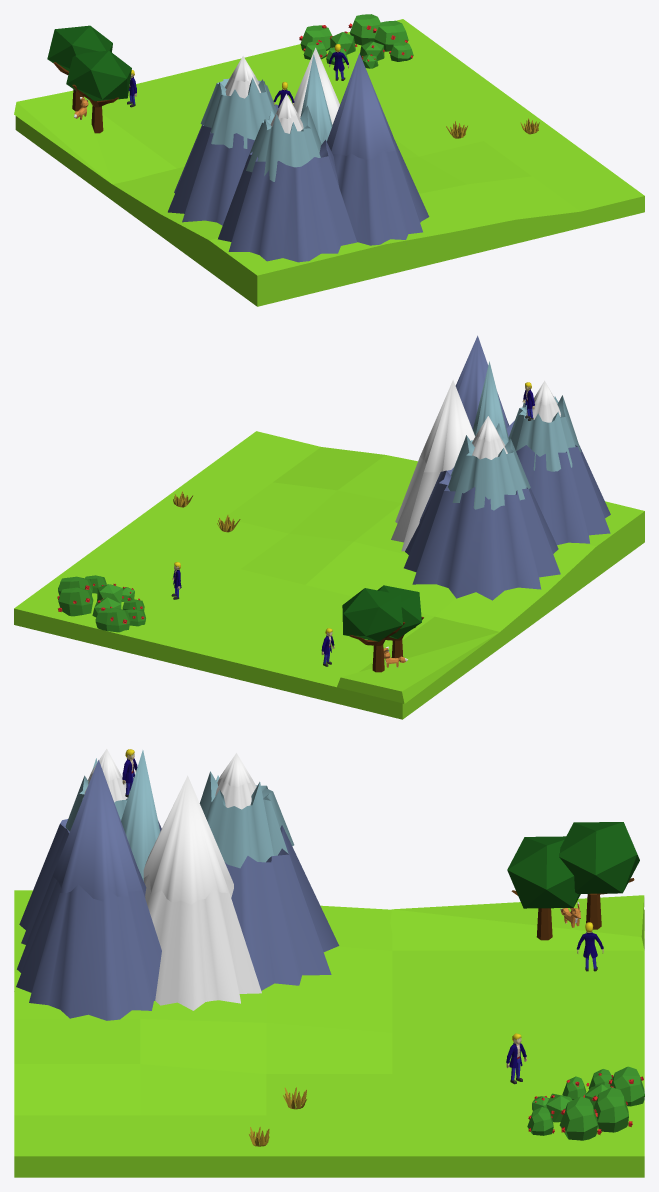
File: modelo0.glb
The picture shows the model from 3 angles, top to bottom: view 1: azimuth 30°, elevation 25°; view 2: azimuth 150°, elevation 25°; view 3: azimuth 270°, elevation 25°; orthographic projection. The views are drawn at different scales.
Visible parts, largest first — view 1: Cube_0, pCylinder6, polySurface1, pCylinder7, Icosphere_5.001, Icosphere_5, polySurface3, polySurface2, Cube.035_48.002, Cube.035_48.004, Cube.035_48.003, Cylinder_4.001; view 2: Cube_0, pCylinder7, pCylinder6, polySurface2, Icosphere_5, polySurface1, polySurface3, Icosphere_5.001, Cube.035_48.002, Cube.035_48.003; view 3: Cube_0, polySurface1, pCylinder7, polySurface2, Icosphere_5, Icosphere_5.001, pCylinder6, polySurface3, Cube.035_48.004, Cube.035_48.002, Cube.035_48.003.
Boxes of the visible parts, x1,y1,x2,y2 form: Cube_0: (14, 19, 644, 306); pCylinder6: (218, 94, 357, 262); polySurface1: (326, 53, 429, 245); pCylinder7: (168, 56, 278, 225); Icosphere_5.001: (66, 50, 131, 101); Icosphere_5: (47, 25, 112, 71); polySurface3: (300, 54, 332, 144); polySurface2: (292, 47, 339, 124); Cube.035_48.002: (350, 14, 380, 45); Cube.035_48.004: (374, 20, 408, 51); Cube.035_48.003: (300, 25, 331, 50); Cylinder_4.001: (72, 84, 118, 133); Cube_0: (14, 431, 644, 719); pCylinder7: (404, 416, 560, 600); pCylinder6: (506, 380, 610, 544); polySurface2: (391, 380, 475, 551); Icosphere_5: (342, 588, 402, 641); polySurface1: (455, 335, 509, 429); polySurface3: (473, 361, 509, 441); Icosphere_5.001: (377, 585, 421, 638); Cube.035_48.002: (58, 587, 93, 616); Cube.035_48.003: (95, 607, 130, 632); Cube_0: (14, 890, 644, 1177); polySurface1: (16, 760, 161, 1020); pCylinder7: (199, 753, 339, 990); polySurface2: (143, 775, 261, 1010); Icosphere_5: (559, 822, 639, 893); Icosphere_5.001: (507, 836, 580, 908); pCylinder6: (19, 749, 161, 944); polySurface3: (121, 750, 160, 881); Cube.035_48.004: (559, 1096, 597, 1140); Cube.035_48.002: (593, 1087, 628, 1132); Cube.035_48.003: (610, 1066, 644, 1106).
Bounding box in the file's own units: 9.95 × 4.9 × 10.72.
